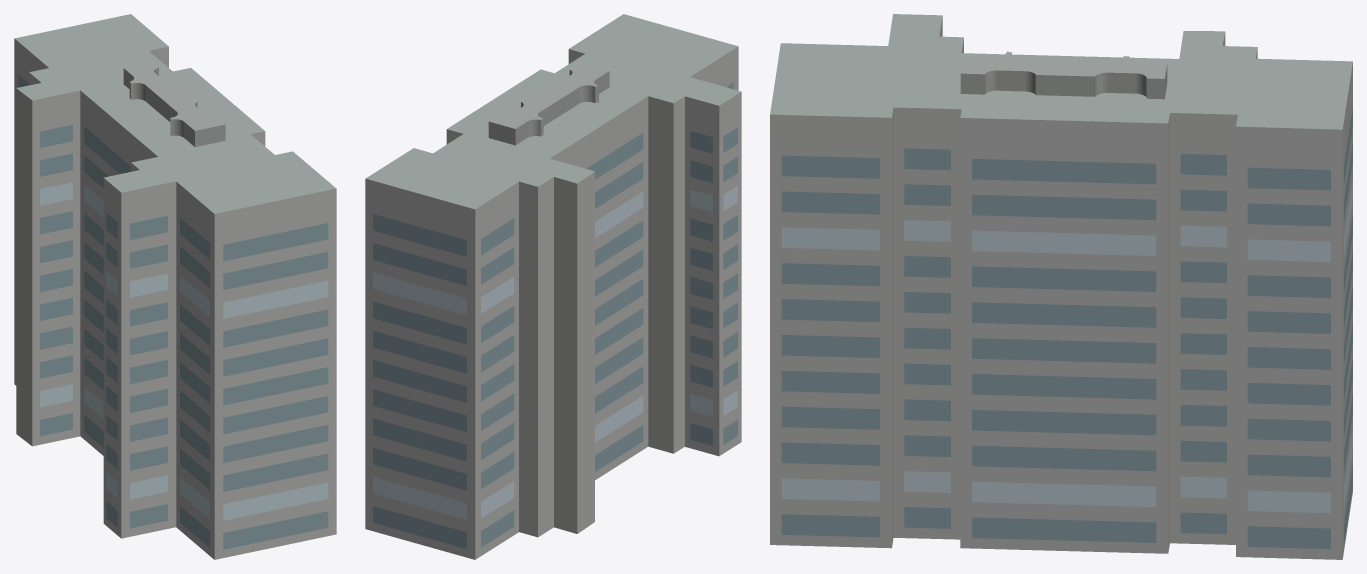
The model's file is fallback-mapo-raemian-prugio-409.glb.
3 views of the same model, side by side, from view 1: azimuth 30°, elevation 25°; view 2: azimuth 150°, elevation 25°; view 3: azimuth 270°, elevation 25° (orthographic). The views are drawn at different scales.
Parts seen in each view (by area): view 1: fallback-mapo-raemian-prugio-409; view 2: fallback-mapo-raemian-prugio-409; view 3: fallback-mapo-raemian-prugio-409.
Boxes of the visible parts, bbox=[...] form: fallback-mapo-raemian-prugio-409: bbox=[14, 14, 336, 559]; fallback-mapo-raemian-prugio-409: bbox=[365, 14, 741, 559]; fallback-mapo-raemian-prugio-409: bbox=[770, 14, 1352, 559].
Bounding box in the file's own units: 19.26 × 35 × 41.03.
